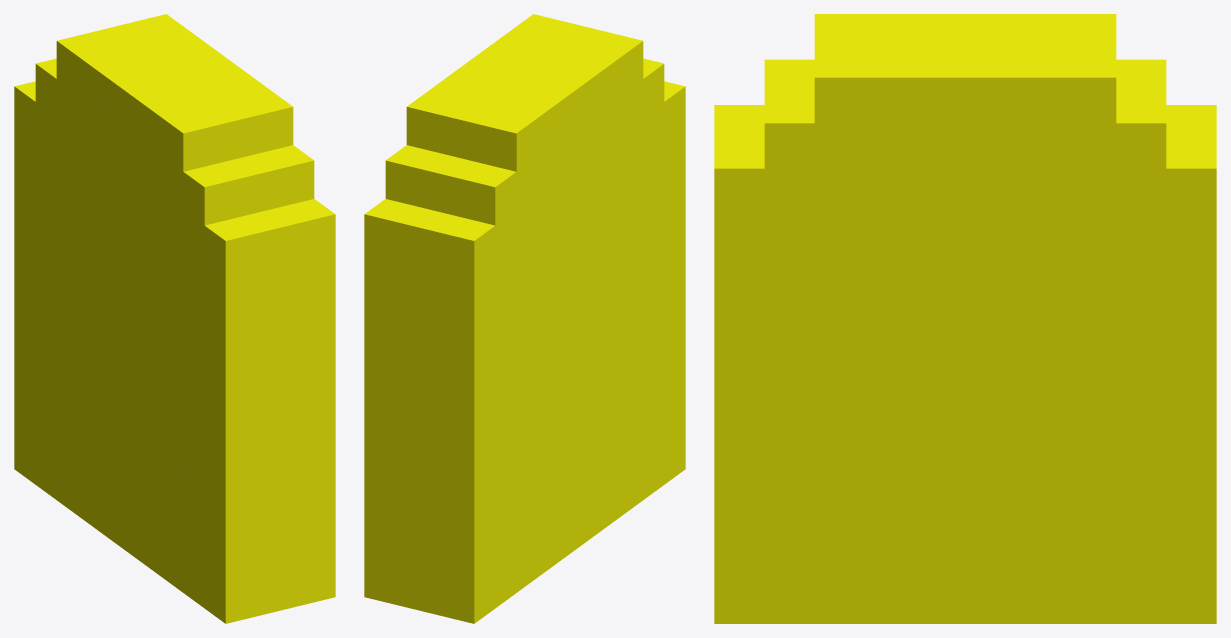
Rendered from voxel-cathedral-grave.glb.
3 renders of one model, left to right at view 1: azimuth 30°, elevation 25°; view 2: azimuth 150°, elevation 25°; view 3: azimuth 270°, elevation 25°, orthographic. The views are drawn at different scales.
Parts seen in each view (by area): view 1: VS_Cathedral_Environment_Grave_001; view 2: VS_Cathedral_Environment_Grave_001; view 3: VS_Cathedral_Environment_Grave_001.
Part boxes in pixels (<box>): VS_Cathedral_Environment_Grave_001: <box>14,14,335,623</box>; VS_Cathedral_Environment_Grave_001: <box>364,14,685,623</box>; VS_Cathedral_Environment_Grave_001: <box>714,14,1216,623</box>.
Bounding box in the file's own units: 0.3 × 1.2 × 1.
